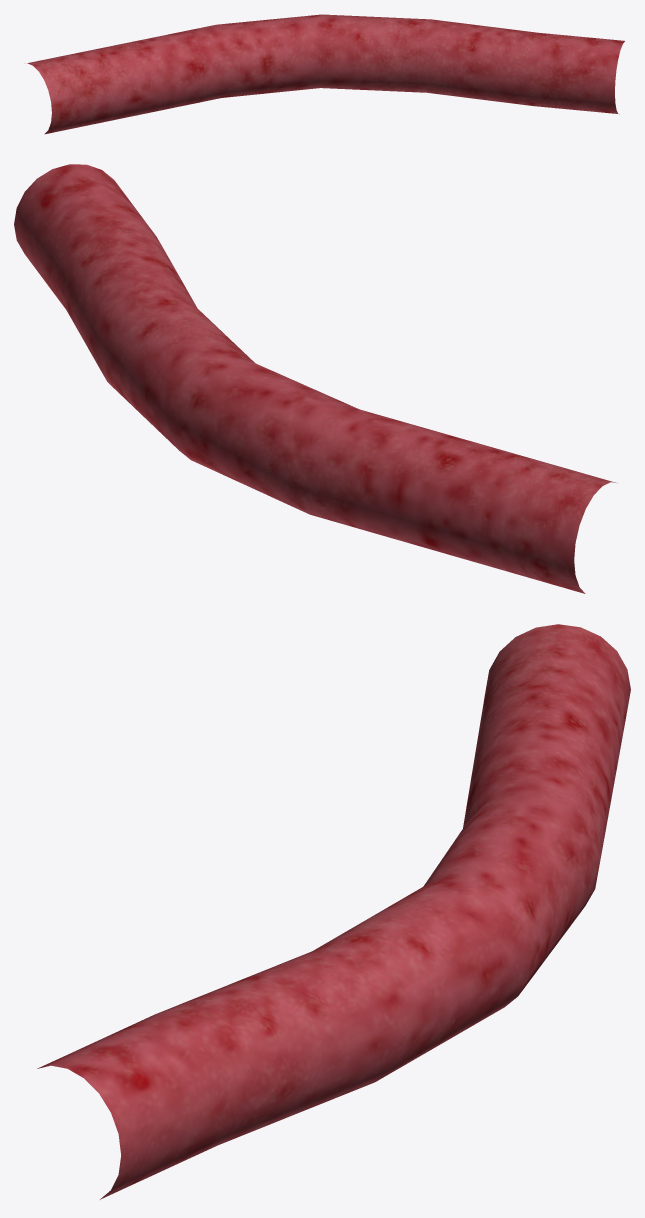
The model's file is Renal_Artery1.glb.
3 views of the same model, one above another, from view 1: azimuth 30°, elevation 25°; view 2: azimuth 150°, elevation 25°; view 3: azimuth 270°, elevation 25° (orthographic). The views are drawn at different scales.
Visible parts, largest first — view 1: renal_artery1; view 2: renal_artery1; view 3: renal_artery1.
Part boxes in pixels (box(x1,y1,x2,y2)): renal_artery1: box(27, 14, 624, 134); renal_artery1: box(14, 164, 617, 593); renal_artery1: box(37, 624, 630, 1199).
Size of the model in its own units: 24.75 by 3.26 by 13.86.
1 material, 1 textured.
